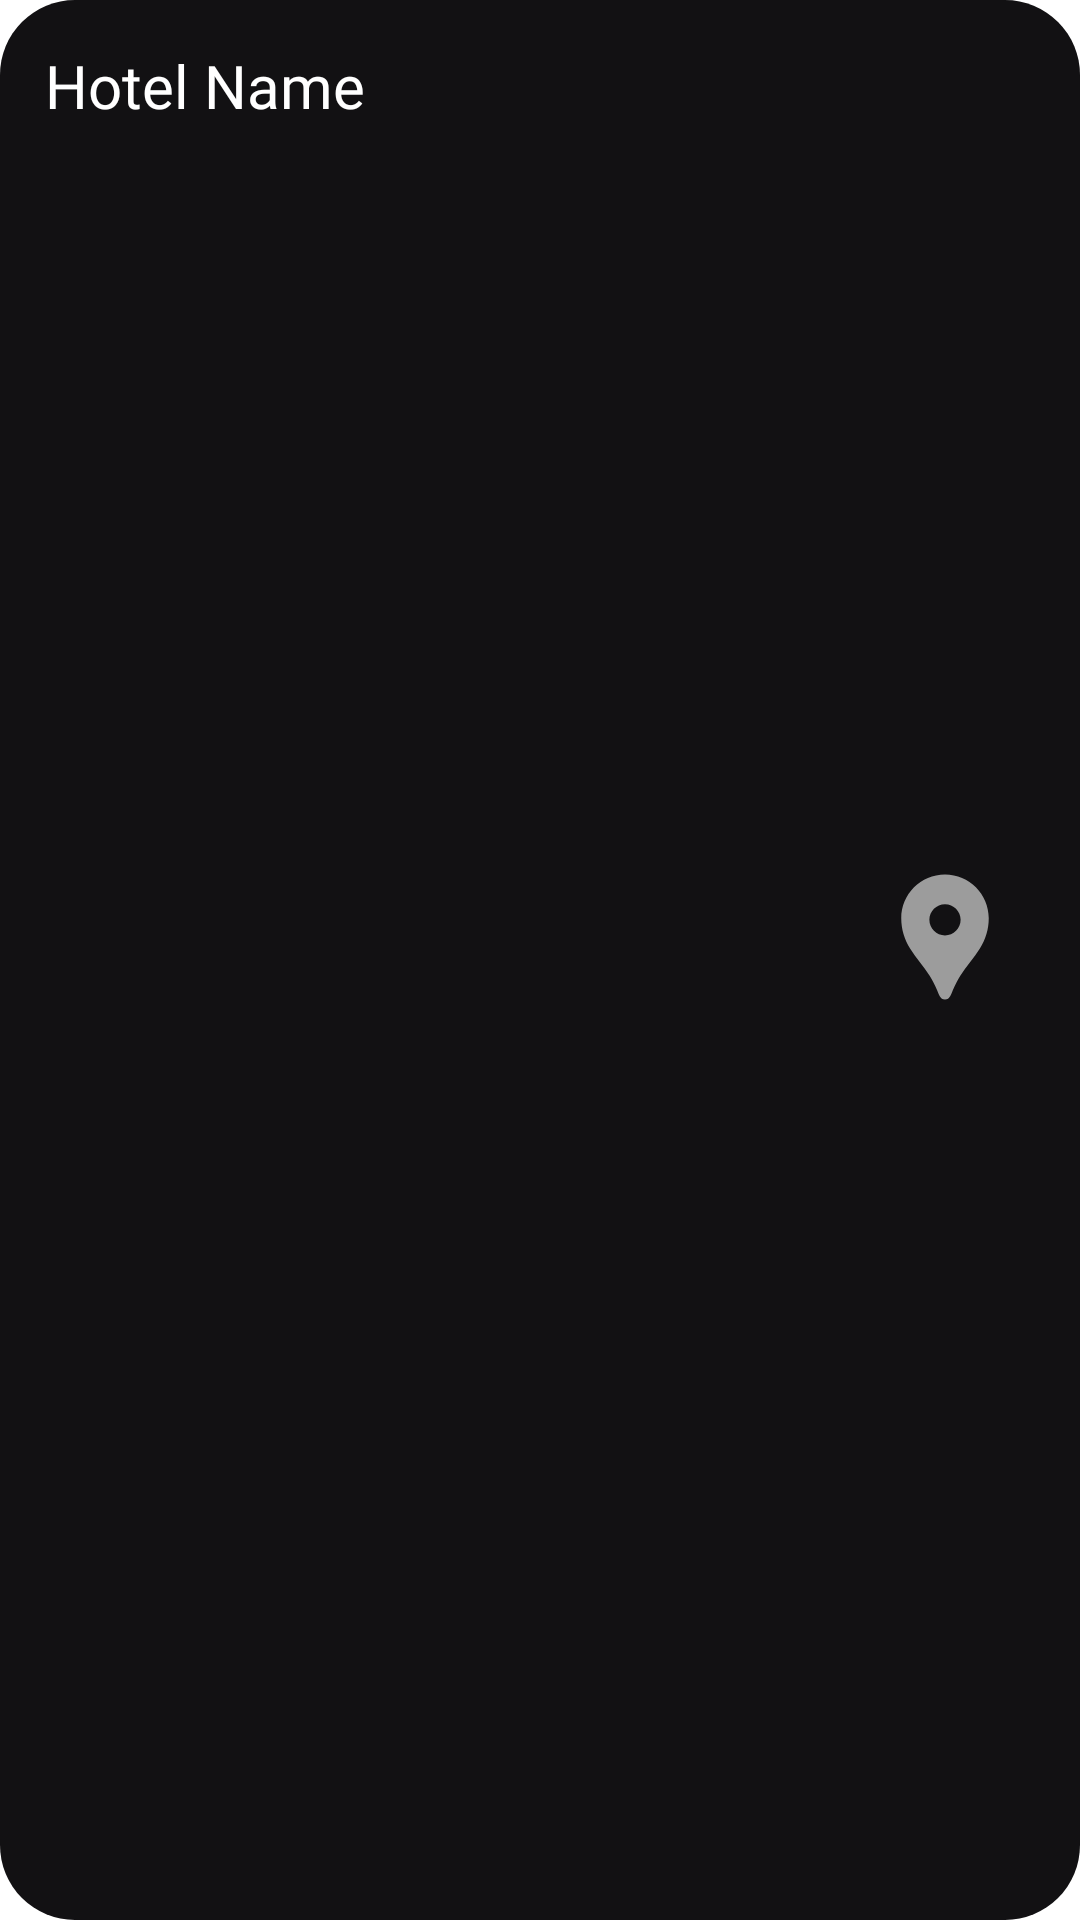

Icons on this 1080×1920 Android screen, each with the point to tap as (x=x, y=y):
location mark: (x=945, y=937)
